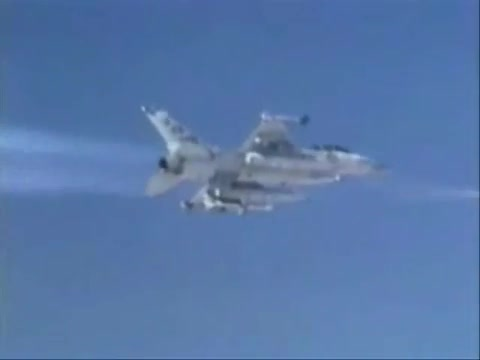aeroplane: (142, 102, 389, 219)
